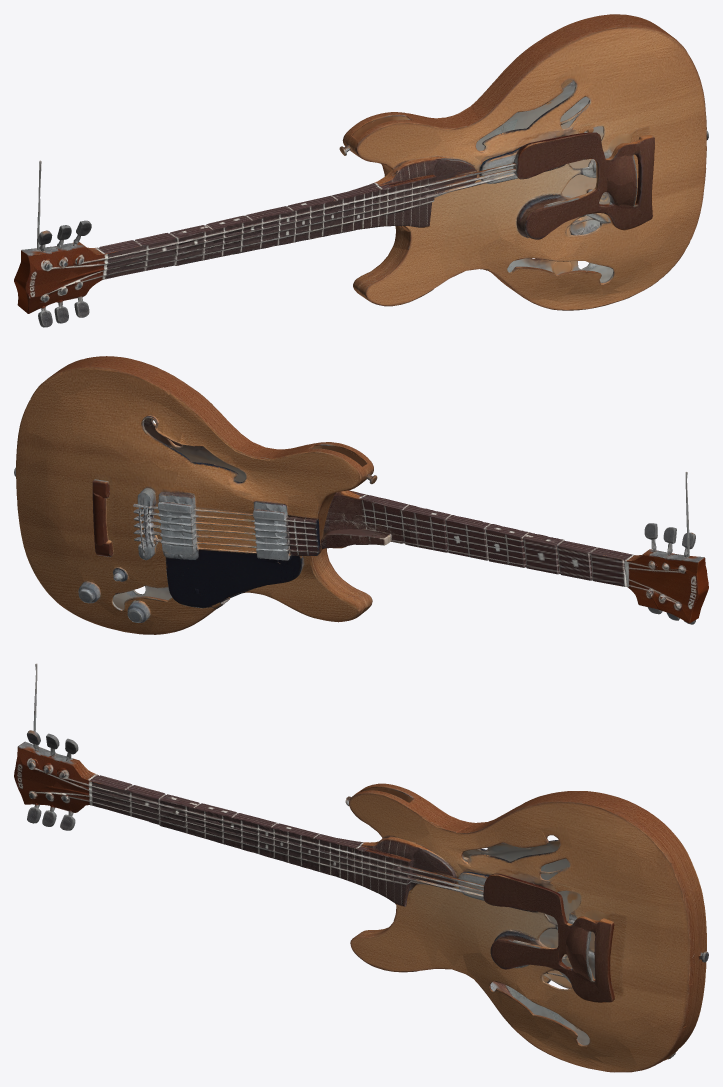
The model's file is Prop_Guitar_Electric_01.glb.
The picture shows the model from 3 angles, top to bottom: view 1: azimuth 30°, elevation 25°; view 2: azimuth 150°, elevation 25°; view 3: azimuth 330°, elevation 25°; orthographic projection. The views are drawn at different scales.
Bounding box in the file's own units: 1.92 × 0.7569 × 0.2403.
Materials: 1 (1 with a texture image).
